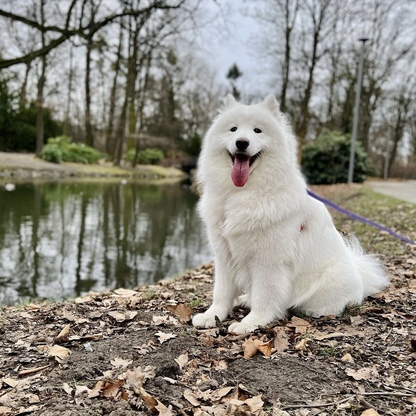samoyed: (188, 91, 391, 336)
